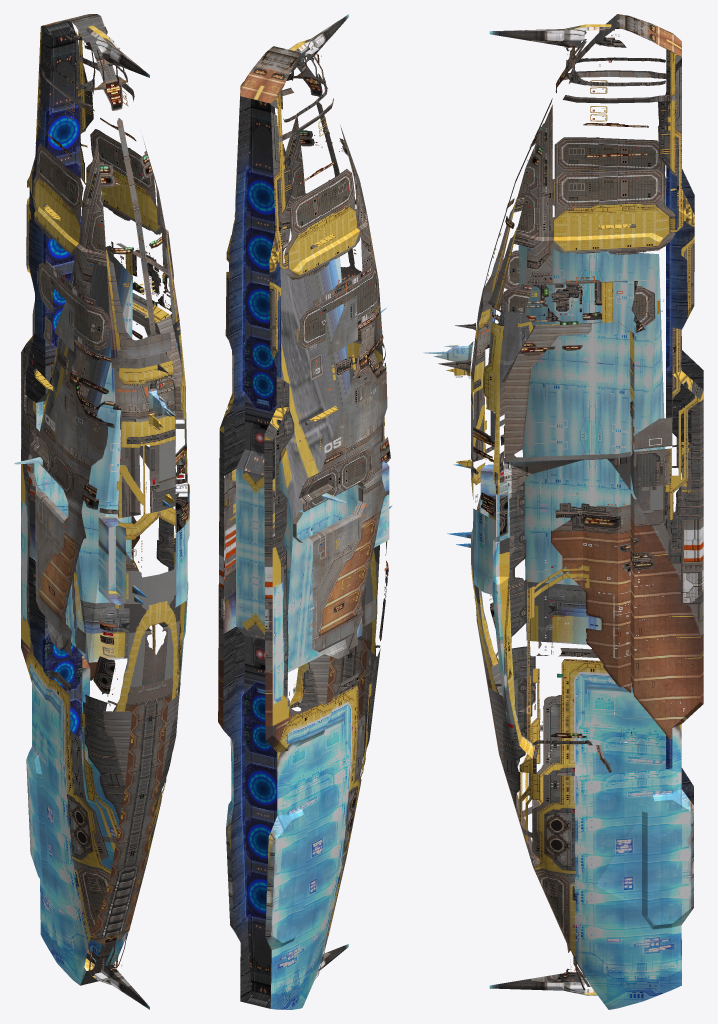
The model's file is LOD2-UVFlip.obj.
3 views of the same model, side by side, from view 1: azimuth 30°, elevation 25°; view 2: azimuth 150°, elevation 25°; view 3: azimuth 270°, elevation 25° (orthographic). The views are drawn at different scales.
Parts seen in each view (by area): view 1: side_upper, side_lower, leftover, engine1, badge1, leftover_bay; view 2: side_upper, side_lower, engine1, leftover, badge1; view 3: side_lower, side_upper, leftover, engine1.
Boxes of the visible parts, x1,y1,x2,y2 form: side_upper: (14,14,187,1009); side_lower: (21,25,189,985); leftover: (34,248,189,662); engine1: (25,21,82,751); badge1: (54,300,74,351); leftover_bay: (108,526,115,590); side_upper: (223,14,390,978); side_lower: (218,15,392,1009); engine1: (223,96,281,1008); leftover: (236,257,389,672); badge1: (327,295,357,355); side_lower: (445,24,703,1009); side_upper: (423,14,694,995); leftover: (473,245,681,644); engine1: (666,49,703,954).
Size of the model in its own units: 299 by 2468 by 642.
